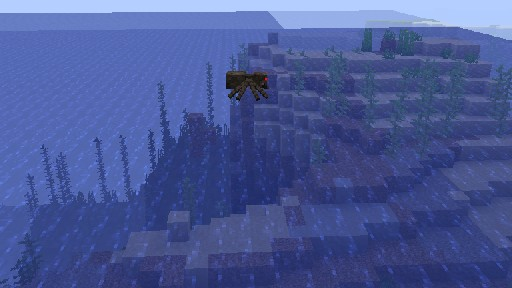spider: (225, 70, 269, 101)
